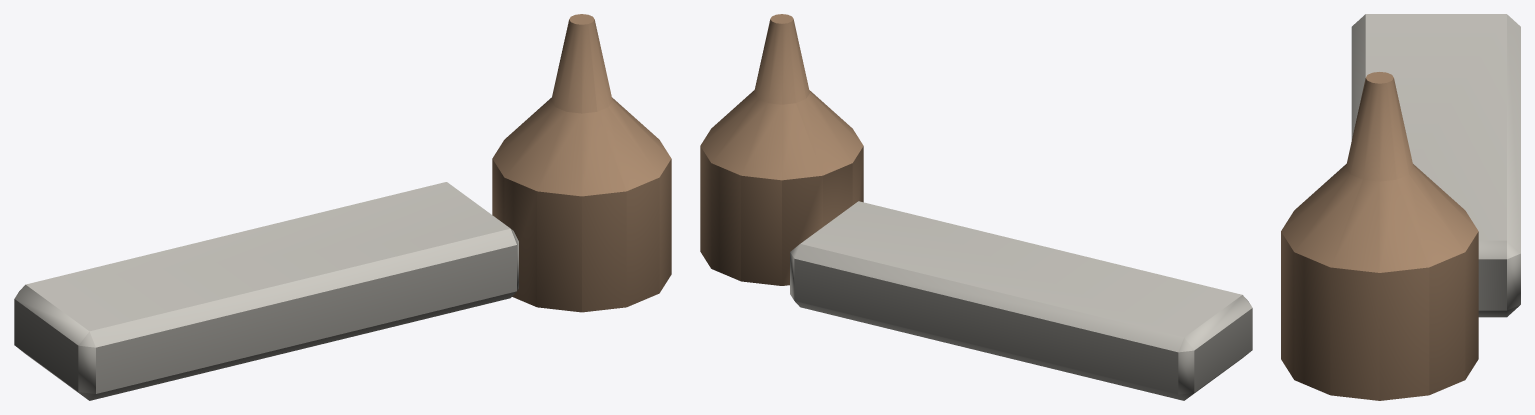
Rendered from whetstone.glb.
The picture shows the model from 3 angles, left to right: view 1: azimuth 30°, elevation 25°; view 2: azimuth 150°, elevation 25°; view 3: azimuth 270°, elevation 25°; orthographic projection. The views are drawn at different scales.
Parts seen in each view (by area): view 1: static; view 2: static; view 3: static.
Part boxes in pixels (x1,y1,x2,y2): static: (14,14,671,400); static: (700,14,1252,400); static: (1281,14,1520,400).
Size of the model in its own units: 0.265 by 0.11 by 0.085.
